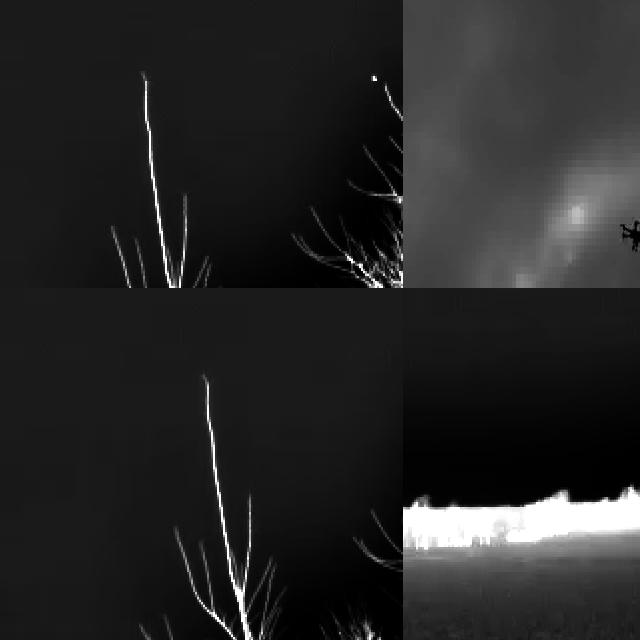0: (357, 66, 381, 94)
drone: (618, 208, 640, 261)
